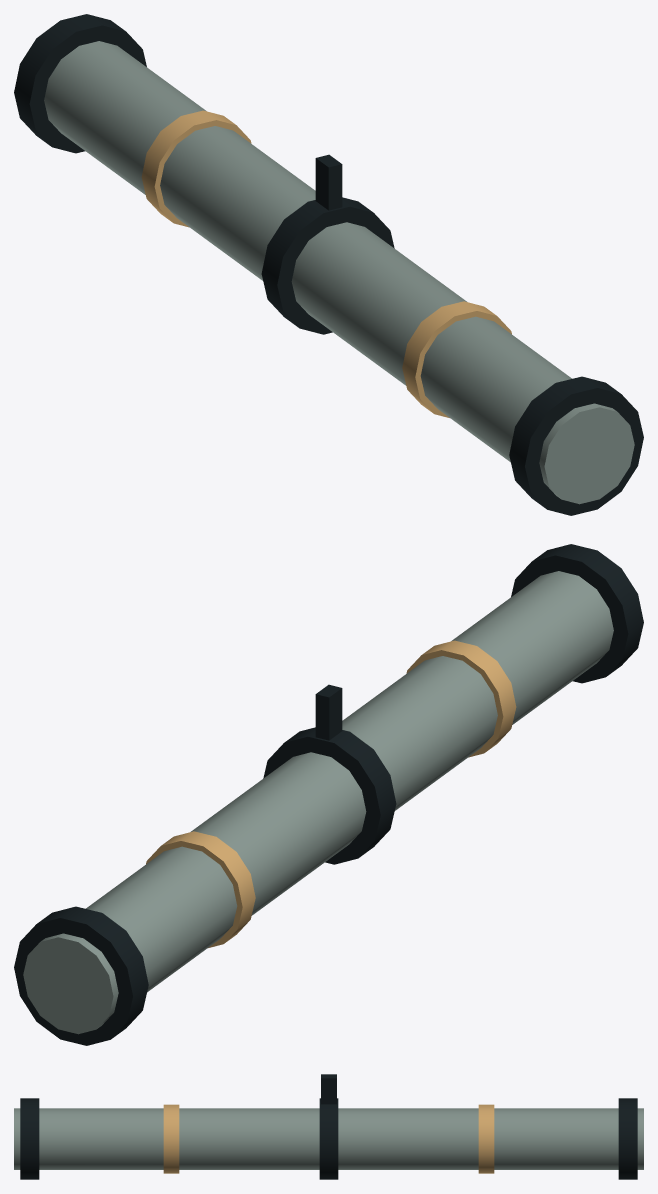
Rendered from pipe-run.glb.
3 views of the same model, one above another, from view 1: azimuth 30°, elevation 25°; view 2: azimuth 150°, elevation 25°; view 3: azimuth 270°, elevation 25° (orthographic). The views are drawn at different scales.
Visible parts, largest first — view 1: pipe-run; view 2: pipe-run; view 3: pipe-run.
Boxes of the visible parts, bbox=[...] form: pipe-run: bbox=[14, 14, 643, 515]; pipe-run: bbox=[14, 544, 643, 1045]; pipe-run: bbox=[14, 1074, 643, 1179].
Bounding box in the file's own units: 0.528 × 0.6974 × 4.
